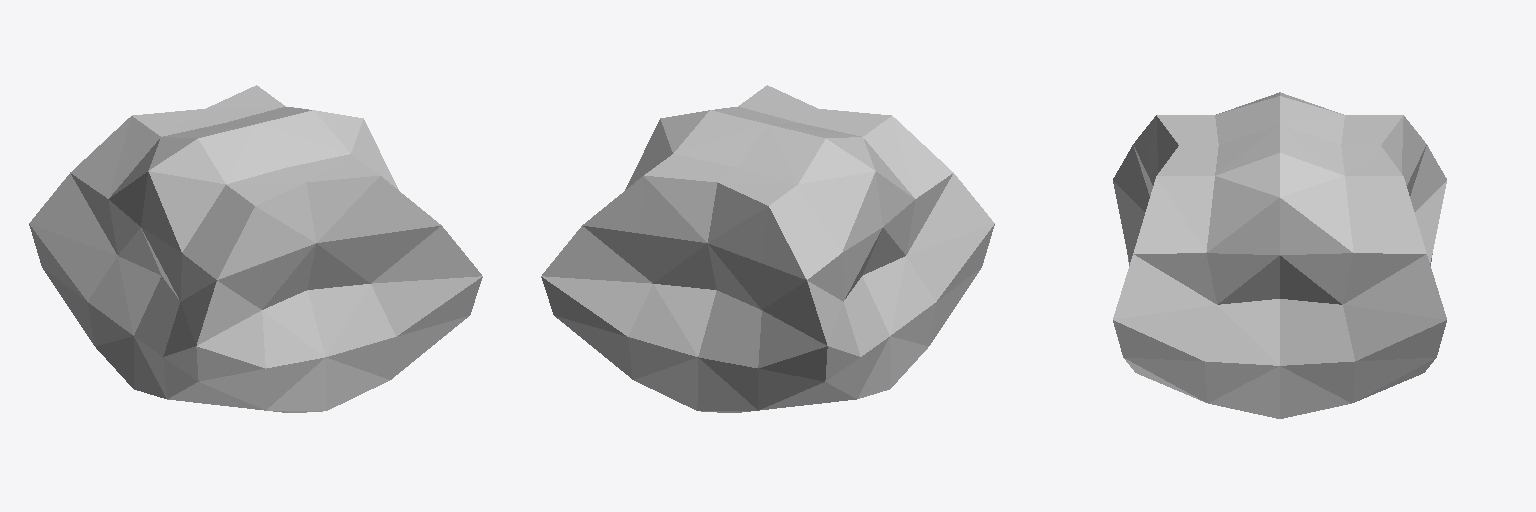
The model's file is ShotgunAmmo_LOD0.obj.
The picture shows the model from 3 angles: view 1: azimuth 30°, elevation 25°; view 2: azimuth 150°, elevation 25°; view 3: azimuth 270°, elevation 25°; orthographic projection.
Parts seen in each view (by area): view 1: Cube_Cube.001; view 2: Cube_Cube.001; view 3: Cube_Cube.001.
Part boxes in pixels (x1,y1,x2,y2): Cube_Cube.001: (29,85,482,412); Cube_Cube.001: (541,85,994,412); Cube_Cube.001: (1113,92,1446,418).
Bounding box in the file's own units: 0.9339 × 0.8199 × 0.9441.